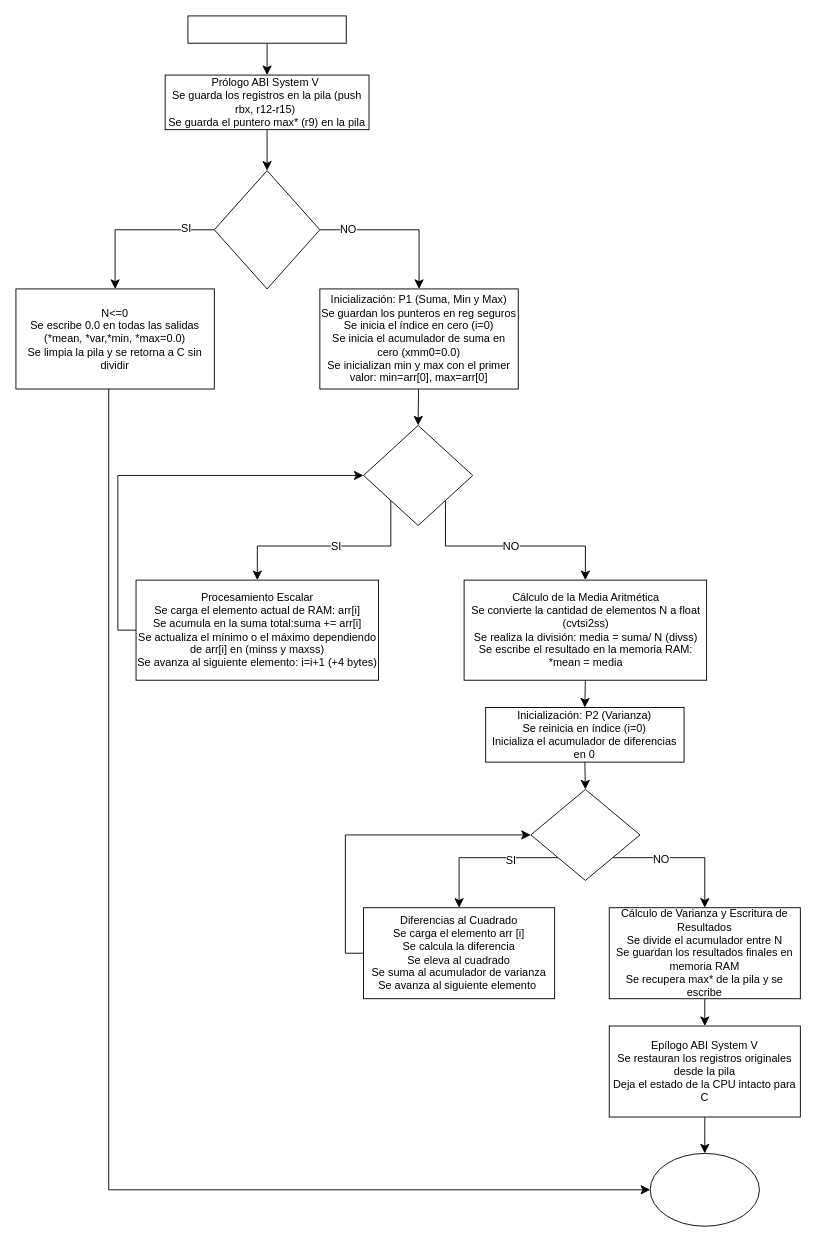
The diagram is 816 pixels wide and 1242 high, and some of its shapes have lost their labels. The shapes that lost their labels are listed below. From the top down, each one's centre as x and y in pixels, then its label:
At point 266,29: "Compute_stats Versión Escalar SSE".
At point 266,229: "Validación de entrada test esi, esi ¿ N <=0 ?".
At point 418,475: "Bucle 1 cmp eax, r12d ¿ i < N ?".
At point 585,834: "Bucle 2 cmp eax, r12d ¿ i < N ?".
At point 704,1189: "Retorno".
